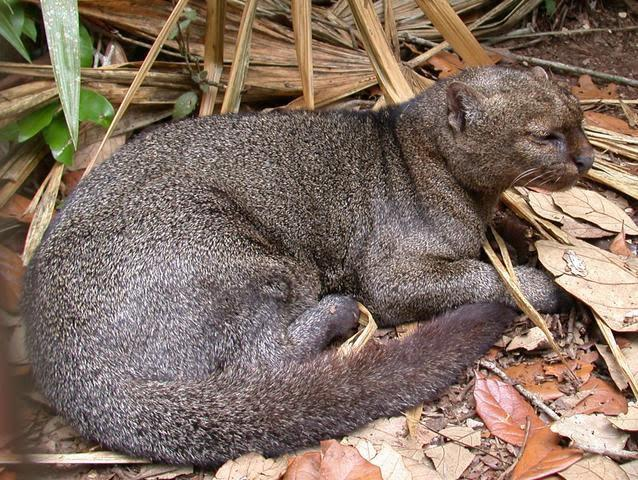Jaguarundi: (13, 56, 620, 471)
